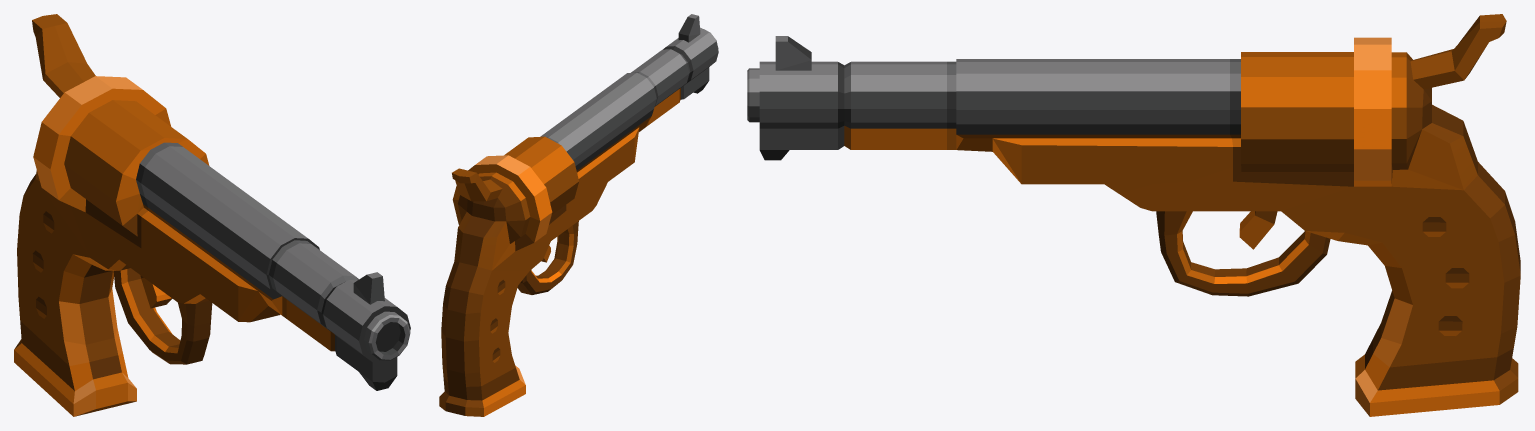
The model's file is Cosmic_Retro_Blaster_3C.fbx.
The picture shows the model from 3 angles, left to right: view 1: azimuth 30°, elevation 25°; view 2: azimuth 150°, elevation 25°; view 3: azimuth 270°, elevation 25°; orthographic projection. The views are drawn at different scales.
Visible parts, largest first — view 1: Cosmic_Retro_Blaster_3_9, Cosmic_Retro_Blaster_Trigger_3_9; view 2: Cosmic_Retro_Blaster_3_9; view 3: Cosmic_Retro_Blaster_3_9, Cosmic_Retro_Blaster_Trigger_3_9.
Boxes of the visible parts, x1,y1,x2,y2 form: Cosmic_Retro_Blaster_3_9: (14,14,410,416); Cosmic_Retro_Blaster_Trigger_3_9: (140,275,172,308); Cosmic_Retro_Blaster_3_9: (439,14,718,416); Cosmic_Retro_Blaster_3_9: (747,14,1520,416); Cosmic_Retro_Blaster_Trigger_3_9: (1239,211,1277,249).
Bounding box in the file's own units: 0.1188 × 0.3177 × 0.5871.
